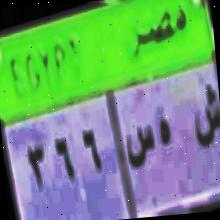3: (21, 136, 52, 204)
6: (54, 132, 78, 187), (82, 122, 104, 177)
haa: (154, 112, 178, 160)
seen: (124, 122, 157, 176)
sheen: (190, 86, 220, 149)
